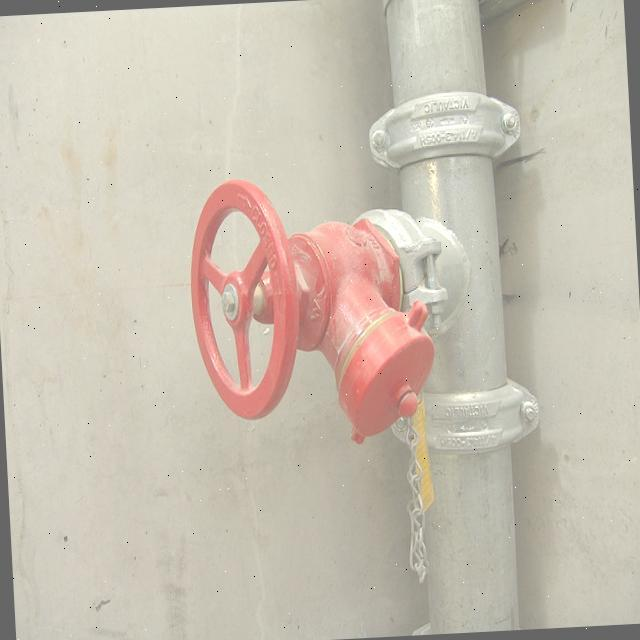fire_hydrant: (172, 0, 552, 635)
